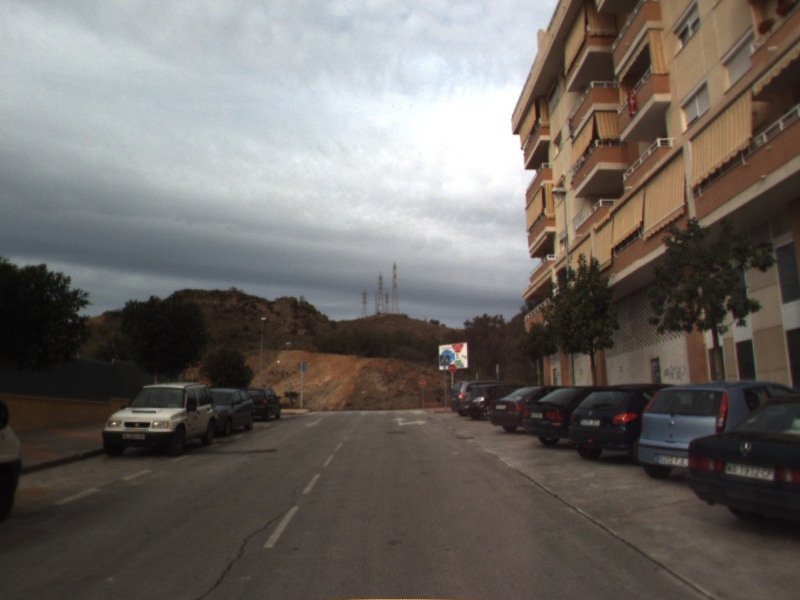STRAIGHT_RIGHT: (390, 415, 429, 428)
